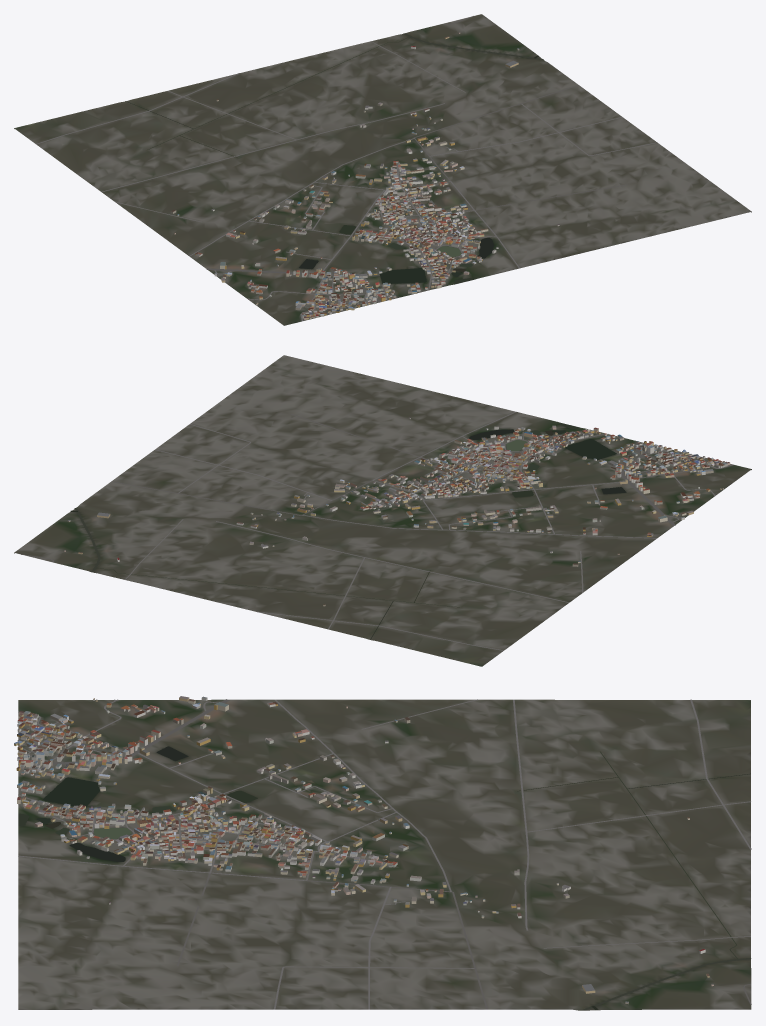
3 renders of one model, top to bottom at view 1: azimuth 30°, elevation 25°; view 2: azimuth 150°, elevation 25°; view 3: azimuth 270°, elevation 25°, orthographic. The views are drawn at different scales.
Visible parts, largest first — view 1: ground, buildings, roads, water; view 2: ground, buildings, roads, water; view 3: ground, buildings, roads, water.
Part boxes in pixels (x1,y1,x2,y2): ground: (14, 14, 751, 325); buildings: (170, 32, 559, 319); roads: (36, 16, 657, 321); water: (125, 33, 543, 283); ground: (14, 355, 751, 666); buildings: (64, 417, 730, 606); roads: (21, 411, 733, 650); water: (70, 423, 626, 639); ground: (18, 699, 751, 1010); buildings: (14, 696, 713, 1004); roads: (18, 699, 751, 1009); water: (18, 746, 751, 1010).
Size of the model in its own units: 1411 by 21.1 by 1412.
